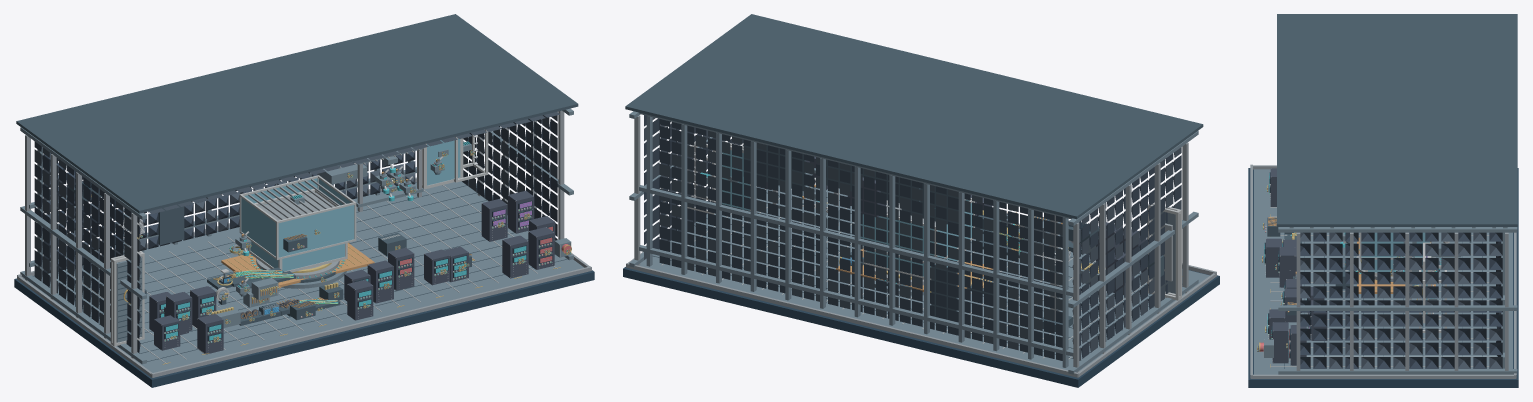
File: Level82_Complete_ArtKit_Showcase.glb
3 views of the same model, side by side, from view 1: azimuth 30°, elevation 25°; view 2: azimuth 150°, elevation 25°; view 3: azimuth 270°, elevation 25° (orthographic). The views are drawn at different scales.
Parts seen in each view (by area): view 1: Level82_Complete_ArtKit_Showcase_Node_0092, Level82_Complete_ArtKit_Showcase_Node_0001, Level82_Complete_ArtKit_Showcase_Node_0000, Level82_Complete_ArtKit_Showcase_Node_0046, Level82_Complete_ArtKit_Showcase_Node_1536, Level82_Complete_ArtKit_Showcase_Node_1537, Level82_Complete_ArtKit_Showcase_Node_1585, Level82_Complete_ArtKit_Showcase_Node_1150, Level82_Complete_ArtKit_Showcase_Node_5216, Level82_Complete_ArtKit_Showcase_Node_0053, Level82_Complete_ArtKit_Showcase_Node_0056, Level82_Complete_ArtKit_Showcase_Node_0049 (+23 smaller); view 2: Level82_Complete_ArtKit_Showcase_Node_0092, Level82_Complete_ArtKit_Showcase_Node_0001, Level82_Complete_ArtKit_Showcase_Node_0000, Level82_Complete_ArtKit_Showcase_Node_0079, Level82_Complete_ArtKit_Showcase_Node_0078, Level82_Complete_ArtKit_Showcase_Node_0045, Level82_Complete_ArtKit_Showcase_Node_0068, Level82_Complete_ArtKit_Showcase_Node_0071, Level82_Complete_ArtKit_Showcase_Node_0074, Level82_Complete_ArtKit_Showcase_Node_0077, Level82_Complete_ArtKit_Showcase_Node_0065, Level82_Complete_ArtKit_Showcase_Node_0073 (+21 smaller); view 3: Level82_Complete_ArtKit_Showcase_Node_0092, Level82_Complete_ArtKit_Showcase_Node_0001, Level82_Complete_ArtKit_Showcase_Node_0000, Level82_Complete_ArtKit_Showcase_Node_0058, Level82_Complete_ArtKit_Showcase_Node_0057, Level82_Complete_ArtKit_Showcase_Node_0059, Level82_Complete_ArtKit_Showcase_Node_0048, Level82_Complete_ArtKit_Showcase_Node_0061, Level82_Complete_ArtKit_Showcase_Node_0064, Level82_Complete_ArtKit_Showcase_Node_7178, Level82_Complete_ArtKit_Showcase_Node_0046, Level82_Complete_ArtKit_Showcase_Node_6875 (+13 smaller).
Boxes of the visible parts, x1,y1,x2,y2 form: Level82_Complete_ArtKit_Showcase_Node_0092: (16, 14, 578, 213); Level82_Complete_ArtKit_Showcase_Node_0001: (24, 181, 583, 372); Level82_Complete_ArtKit_Showcase_Node_0000: (14, 182, 594, 387); Level82_Complete_ArtKit_Showcase_Node_0046: (151, 266, 591, 377); Level82_Complete_ArtKit_Showcase_Node_1536: (278, 205, 354, 257); Level82_Complete_ArtKit_Showcase_Node_1537: (241, 198, 275, 256); Level82_Complete_ArtKit_Showcase_Node_1585: (221, 243, 374, 286); Level82_Complete_ArtKit_Showcase_Node_1150: (116, 257, 142, 342); Level82_Complete_ArtKit_Showcase_Node_5216: (427, 138, 460, 185); Level82_Complete_ArtKit_Showcase_Node_0053: (50, 154, 56, 300); Level82_Complete_ArtKit_Showcase_Node_0056: (131, 213, 137, 359); Level82_Complete_ArtKit_Showcase_Node_0049: (20, 271, 146, 364); Level82_Complete_ArtKit_Showcase_Node_0092: (625, 14, 1203, 219); Level82_Complete_ArtKit_Showcase_Node_0001: (639, 185, 1209, 370); Level82_Complete_ArtKit_Showcase_Node_0000: (623, 228, 1219, 387); Level82_Complete_ArtKit_Showcase_Node_0079: (639, 185, 1073, 296); Level82_Complete_ArtKit_Showcase_Node_0078: (639, 245, 1073, 356); Level82_Complete_ArtKit_Showcase_Node_0045: (626, 263, 1078, 377); Level82_Complete_ArtKit_Showcase_Node_0068: (958, 192, 964, 342); Level82_Complete_ArtKit_Showcase_Node_0071: (854, 166, 860, 317); Level82_Complete_ArtKit_Showcase_Node_0074: (750, 141, 756, 291); Level82_Complete_ArtKit_Showcase_Node_0077: (646, 116, 652, 266); Level82_Complete_ArtKit_Showcase_Node_0065: (1062, 217, 1068, 367); Level82_Complete_ArtKit_Showcase_Node_0073: (785, 149, 791, 300); Level82_Complete_ArtKit_Showcase_Node_0092: (1277, 14, 1517, 226); Level82_Complete_ArtKit_Showcase_Node_0001: (1254, 169, 1512, 374); Level82_Complete_ArtKit_Showcase_Node_0000: (1248, 168, 1518, 387); Level82_Complete_ArtKit_Showcase_Node_0058: (1278, 305, 1517, 310); Level82_Complete_ArtKit_Showcase_Node_0057: (1278, 369, 1517, 374); Level82_Complete_ArtKit_Showcase_Node_0059: (1278, 227, 1517, 232); Level82_Complete_ArtKit_Showcase_Node_0048: (1251, 374, 1515, 378); Level82_Complete_ArtKit_Showcase_Node_0061: (1454, 232, 1458, 370); Level82_Complete_ArtKit_Showcase_Node_0064: (1296, 232, 1300, 370); Level82_Complete_ArtKit_Showcase_Node_7178: (1272, 322, 1288, 363); Level82_Complete_ArtKit_Showcase_Node_0046: (1250, 164, 1252, 378); Level82_Complete_ArtKit_Showcase_Node_6875: (1279, 247, 1295, 287).
Bounding box in the file's own units: 25.43 × 9.1 × 13.7.
